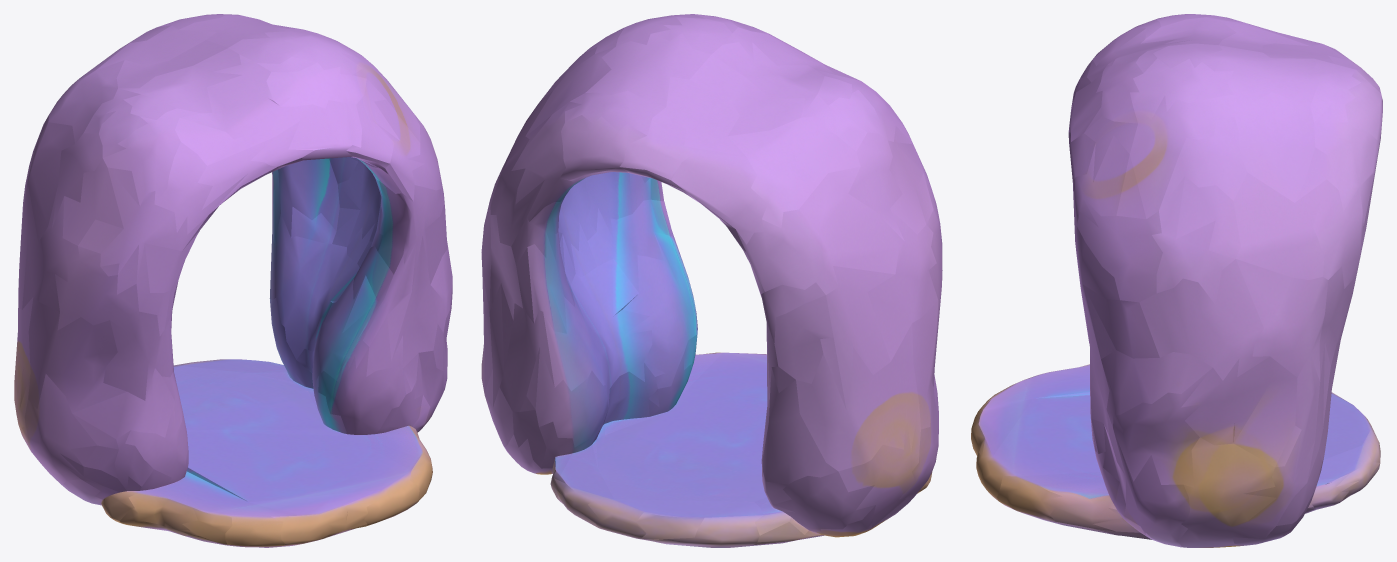
The model's file is portal_gate.glb.
The picture shows the model from 3 angles, left to right: view 1: azimuth 30°, elevation 25°; view 2: azimuth 150°, elevation 25°; view 3: azimuth 270°, elevation 25°; orthographic projection. The views are drawn at different scales.
Size of the model in its own units: 1.9 by 1.88 by 1.63.
Materials: 1 (1 with a texture image).
